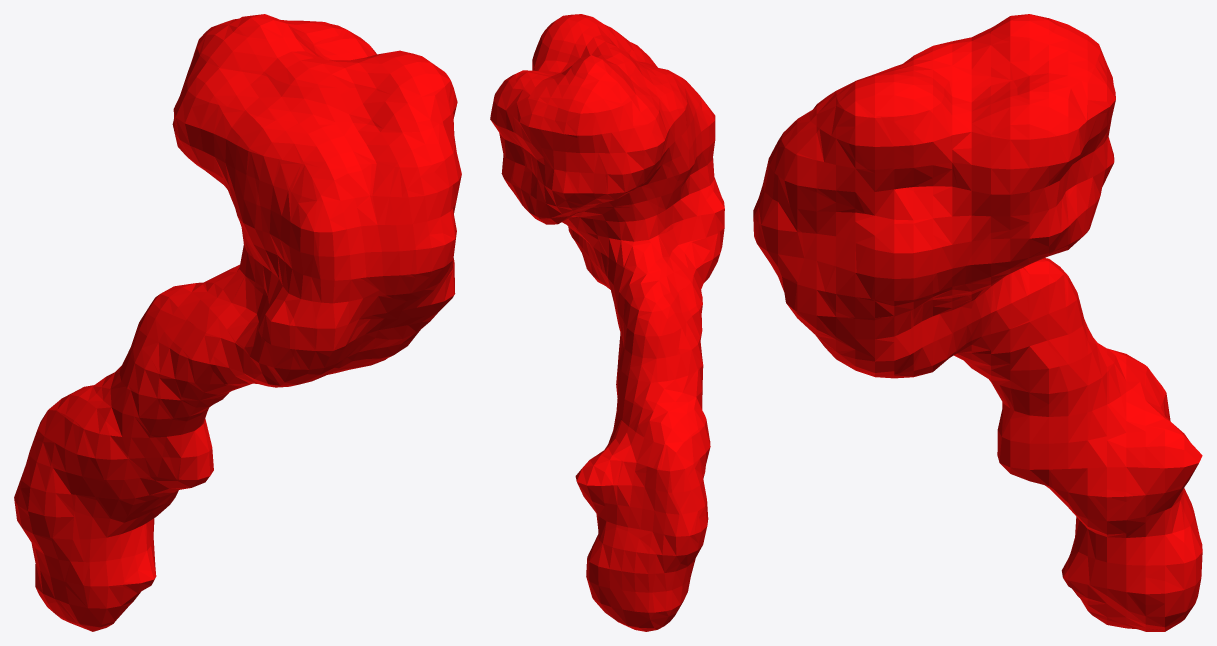
The model's file is rplD_coarse.dae.
3 views of the same model, side by side, from view 1: azimuth 30°, elevation 25°; view 2: azimuth 150°, elevation 25°; view 3: azimuth 270°, elevation 25° (orthographic). The views are drawn at different scales.
Parts seen in each view (by area): view 1: rplD; view 2: rplD; view 3: rplD.
Part boxes in pixels (left/top/right/bottom): rplD: left=14, top=14, right=461, bottom=631; rplD: left=490, top=14, right=724, bottom=631; rplD: left=753, top=14, right=1202, bottom=631.
Size of the model in its own units: 48.7 by 90.48 by 54.57.
